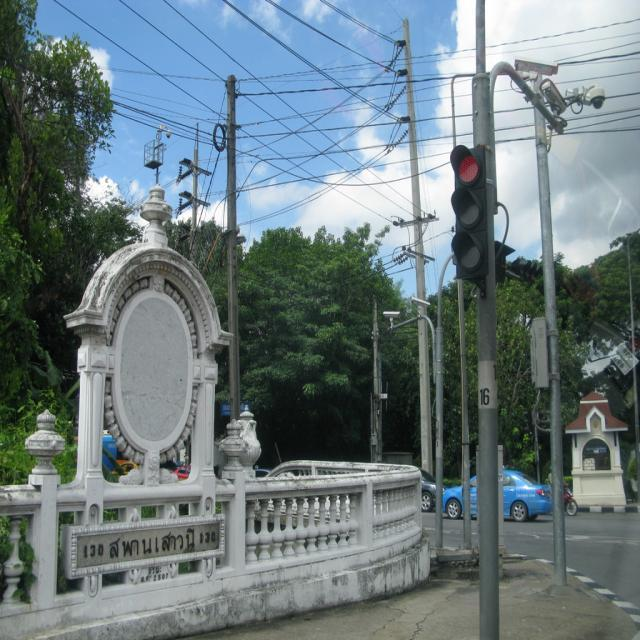traffic light: (449, 138, 490, 286)
